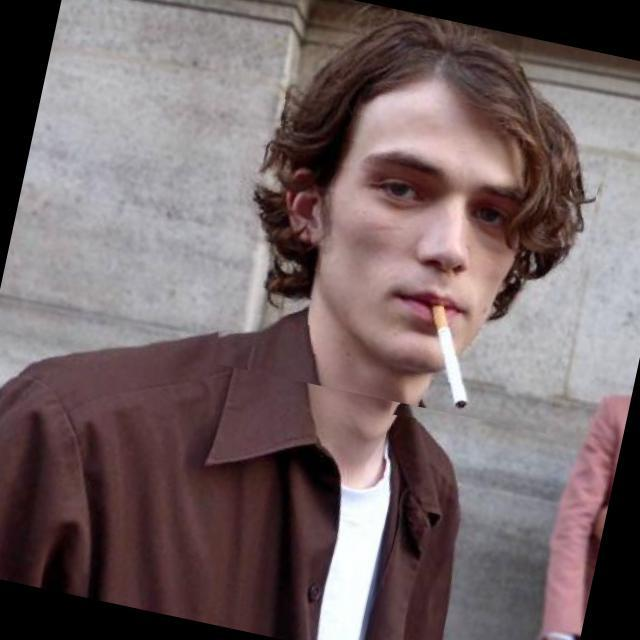cigarette: (389, 288, 510, 434)
